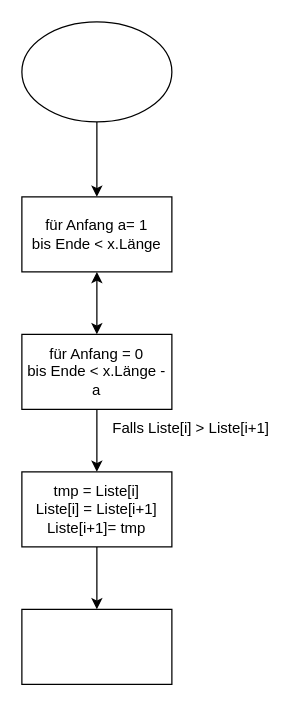
Image size: 306x706. Some labels were removed from this diagram. The centre of each missing label's shape, as x and y in pixels:
Ausgabe Liste X: (x=96, y=646)
Liste X: (x=96, y=71)
